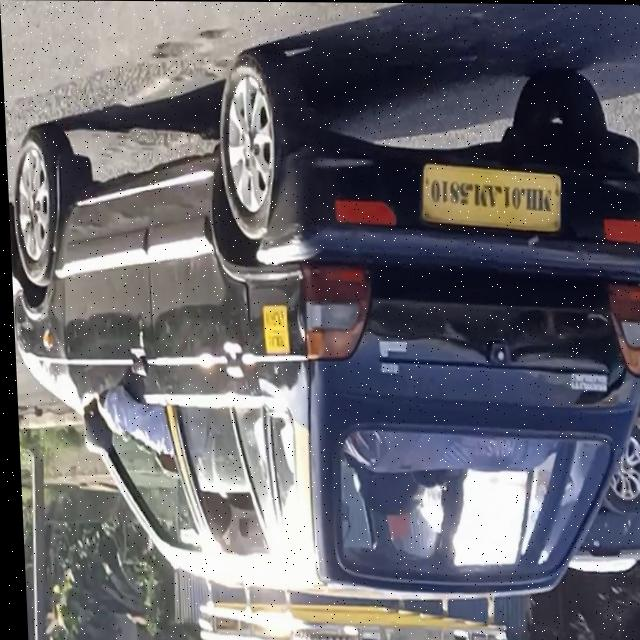plate: (417, 162, 564, 234)
